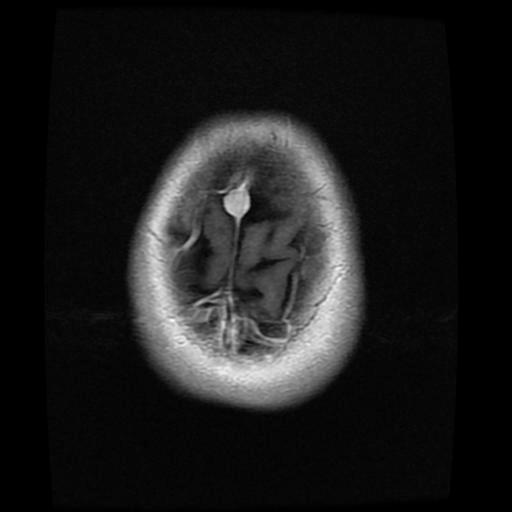Tumour-Meningioma: (211, 165, 272, 255)
